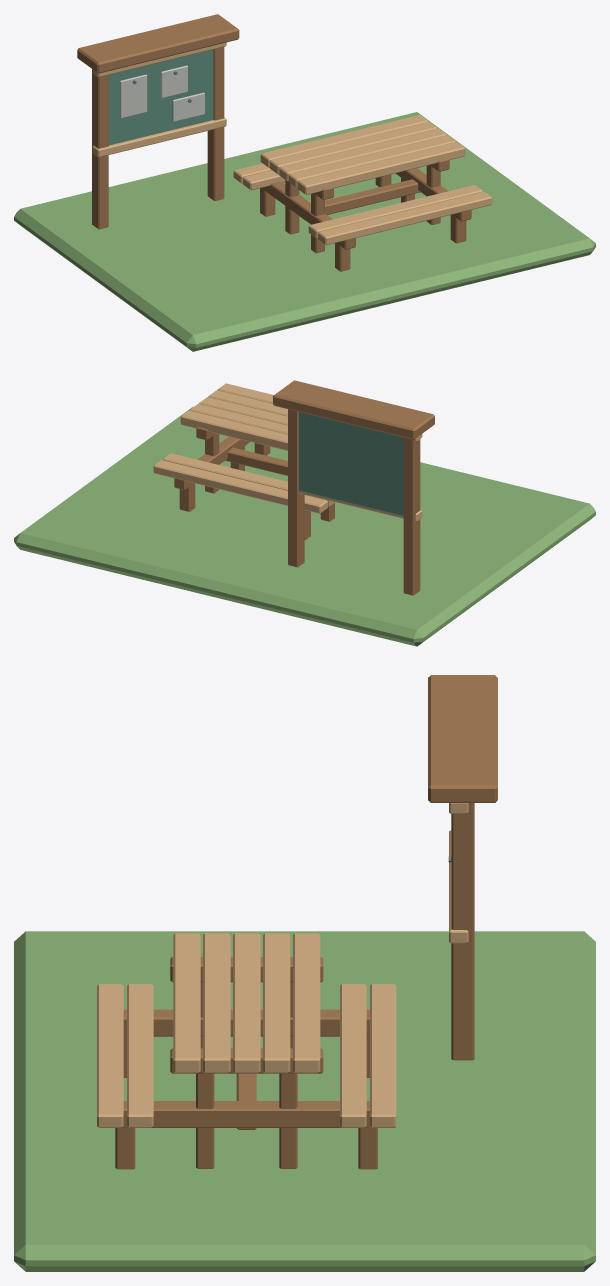
The picture shows the model from 3 angles, top to bottom: view 1: azimuth 30°, elevation 25°; view 2: azimuth 150°, elevation 25°; view 3: azimuth 270°, elevation 25°; orthographic projection. The views are drawn at different scales.
Parts seen in each view (by area): view 1: village-gathering-corner-01; view 2: village-gathering-corner-01; view 3: village-gathering-corner-01.
Boxes of the visible parts, <box> form: village-gathering-corner-01: <box>14,14,595,351</box>; village-gathering-corner-01: <box>14,380,595,646</box>; village-gathering-corner-01: <box>14,675,595,1271</box>.
Bounding box in the file's own units: 4.6 × 2.04 × 3.5.
